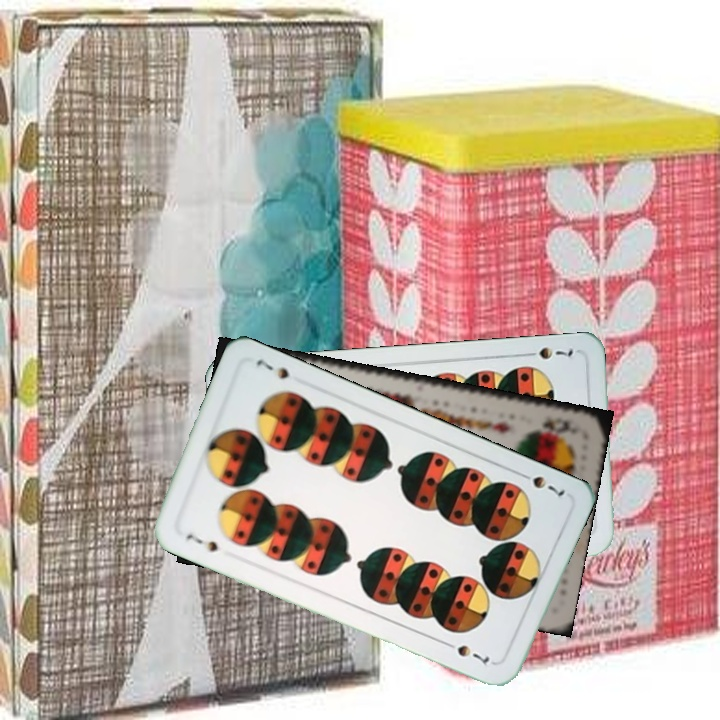S7: (514, 468, 567, 501), (519, 343, 576, 362), (182, 529, 221, 555)
SK: (539, 414, 578, 437)
